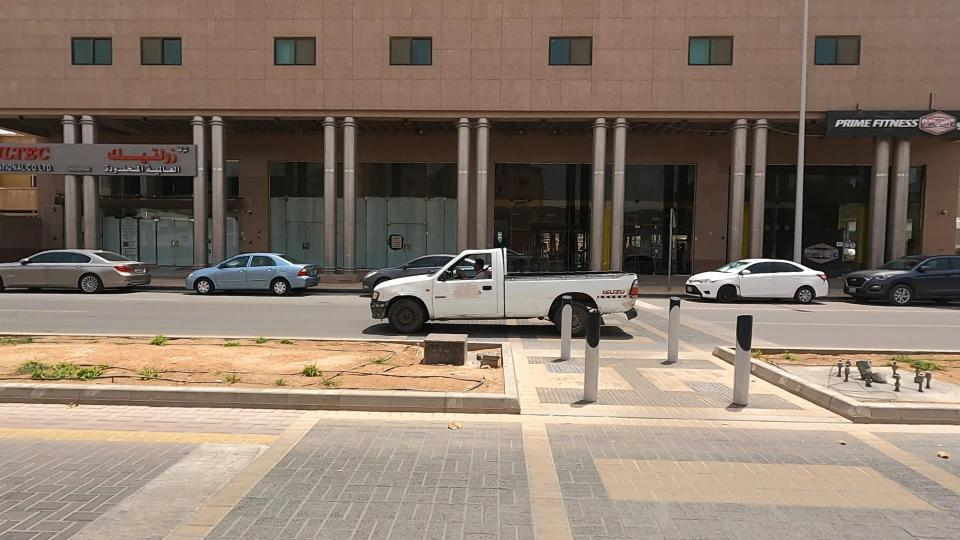CLUTTER_SIDEWALK: (0, 299, 599, 420)
